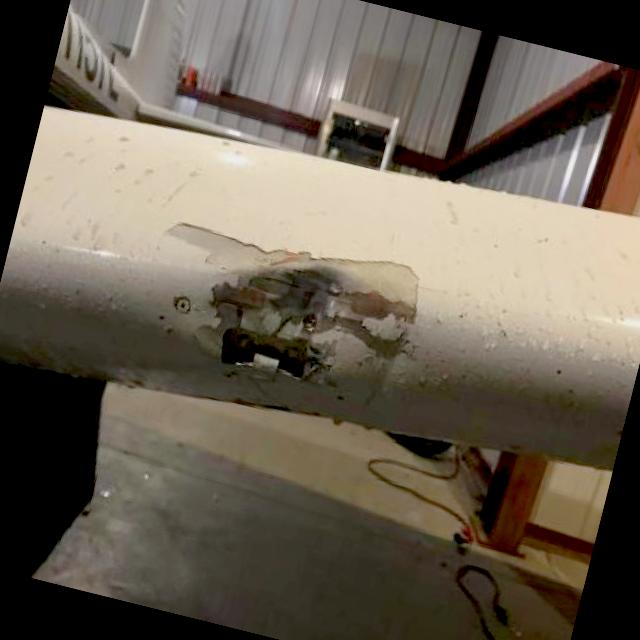dent: (199, 261, 415, 393)
